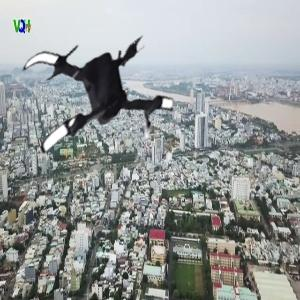drone: (18, 8, 191, 181)
